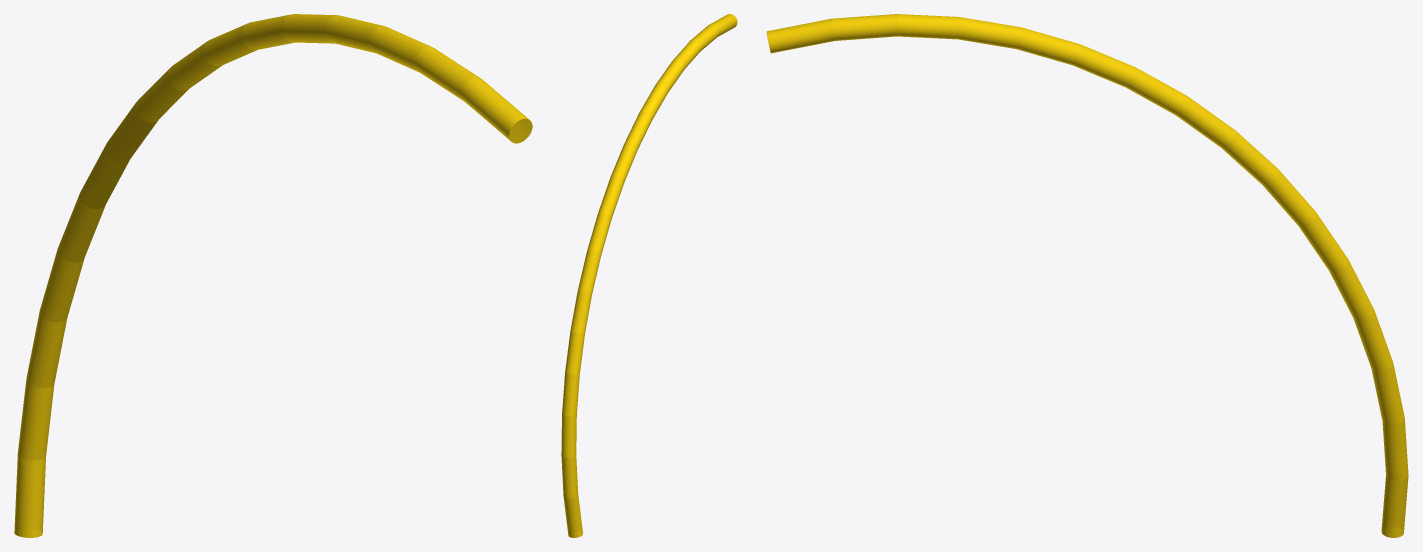
File: Event_420107950_track_68.fbx
The picture shows the model from 3 angles, left to right: view 1: azimuth 30°, elevation 25°; view 2: azimuth 150°, elevation 25°; view 3: azimuth 270°, elevation 25°; orthographic projection. The views are drawn at different scales.
Visible parts, largest first — view 1: Model; view 2: Model; view 3: Model.
Part boxes in pixels (left/top/right/bottom): Model: left=14, top=14, right=532, bottom=537; Model: left=561, top=14, right=737, bottom=537; Model: left=766, top=14, right=1408, bottom=537.
Bounding box in the file's own units: 0.199 × 1.08 × 1.14.
